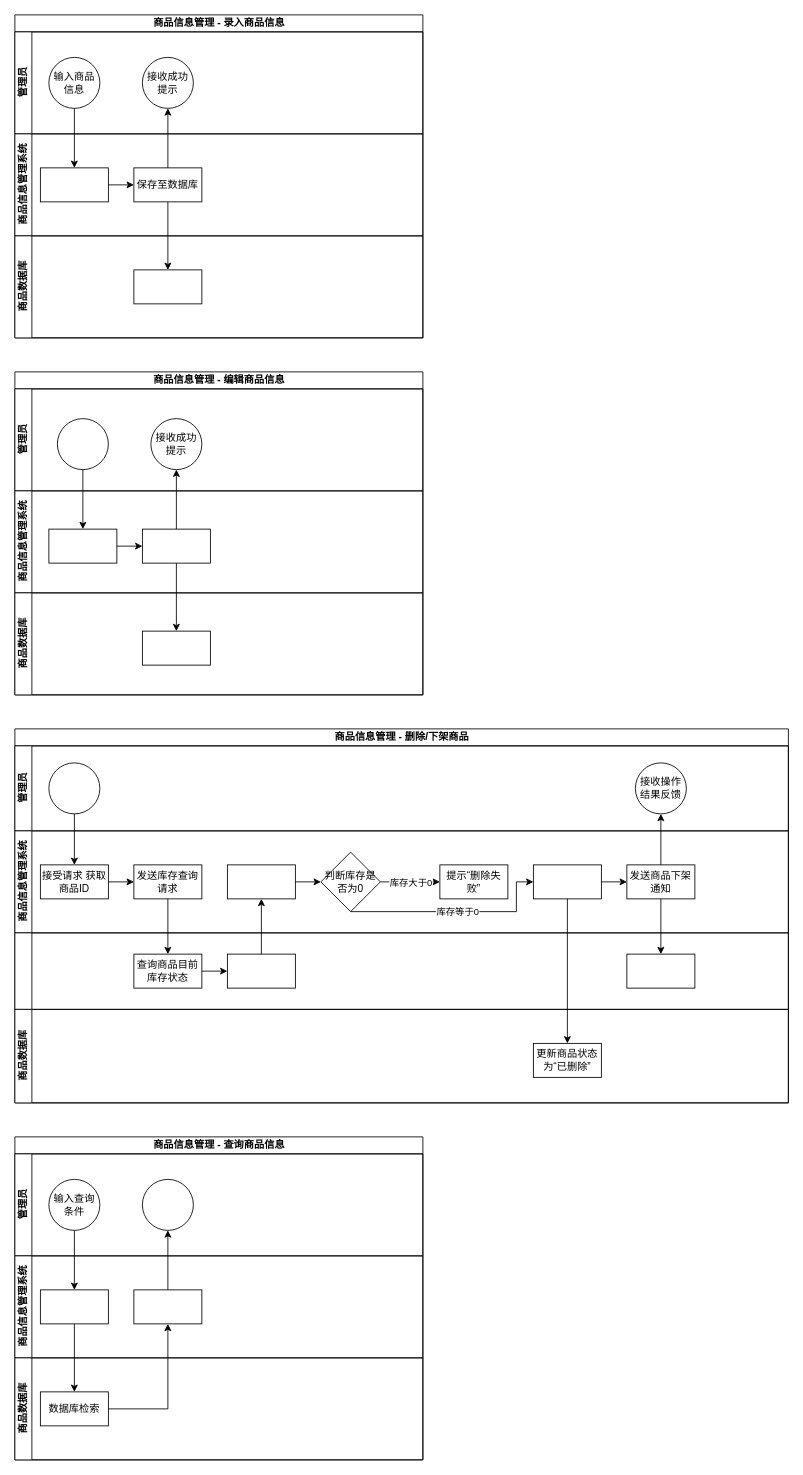
Some shapes in this 803 by 1475 pixel diagram are drawn without their labels. Each missing label, with the box of its shape:
修改商品属性: (142, 630, 210, 665)
发送删除商品请求: (48, 762, 100, 814)
存储新商品记录: (133, 269, 202, 304)
库存系统: (14, 932, 788, 1009)
执行删除操作: (533, 864, 601, 899)
接收商品“下架通知”: (626, 953, 695, 988)
接收库存状态相应: (227, 864, 295, 899)
提交修改申请: (57, 418, 108, 470)
显示检索结果: (142, 1179, 193, 1230)
更新数据库记录: (142, 528, 210, 563)
编辑检索结果: (133, 1289, 202, 1324)
请求检索数据库: (40, 1289, 108, 1324)
返回库存数据: (227, 953, 295, 988)
验证数据格式: (40, 167, 108, 202)
验证新数据合法性: (48, 528, 117, 563)
